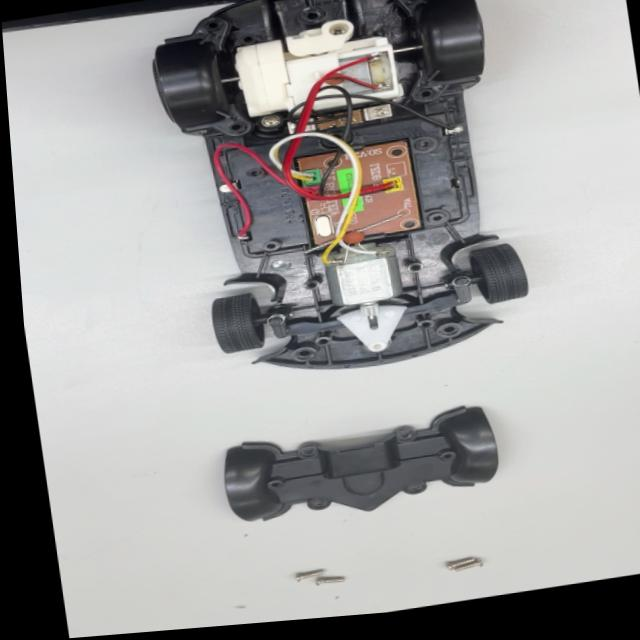Chassis: (184, 0, 519, 391)
motor: (320, 248, 412, 329)
motor_cover: (207, 396, 521, 544)
screw: (433, 547, 494, 581), (273, 559, 332, 589), (309, 566, 360, 593)
wheel: (440, 233, 550, 321), (206, 290, 280, 362)
